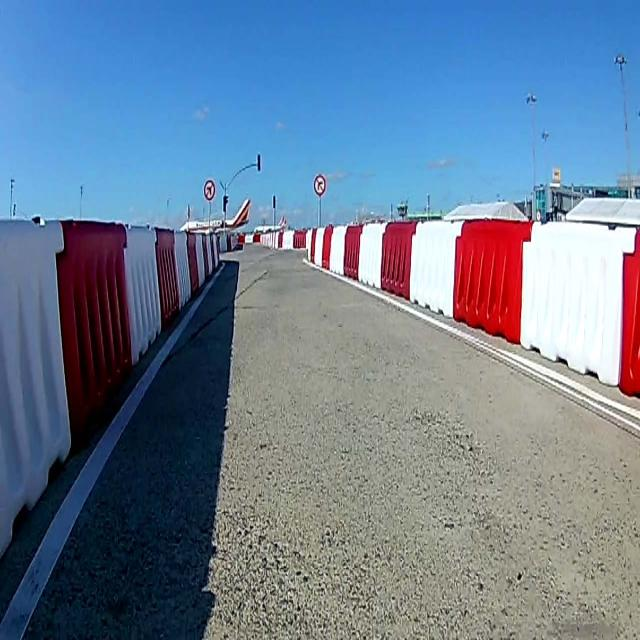sagadonulmez: (314, 174, 326, 196)
soladonulmez: (203, 179, 215, 201)
